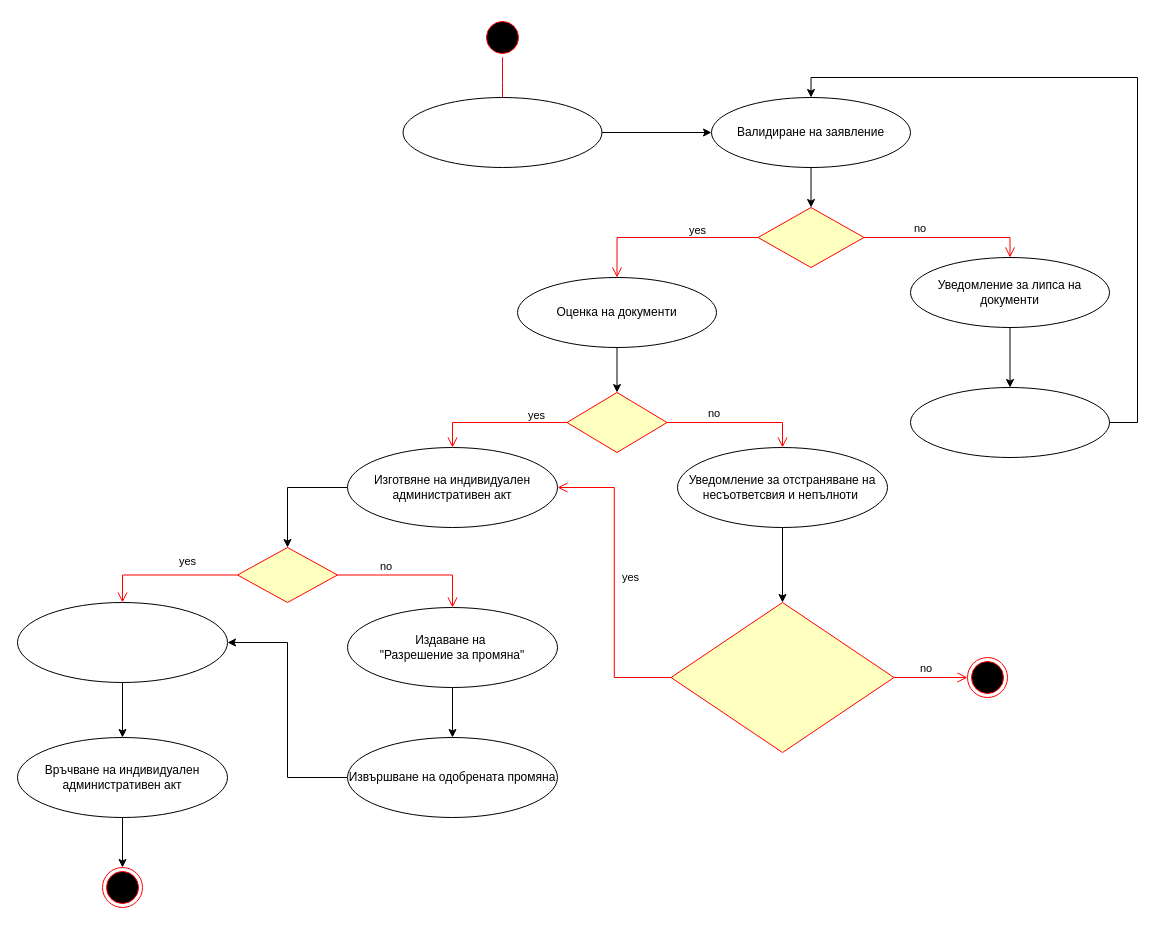
The diagram is 1163 pixels wide and 925 high, and some of its shapes have lost their labels. The shapes that lost their labels are listed below. From the top down, each one's centre as x and y in pixels, then its label:
(502,132): Подаване на заяление със съответните документи
(1010,422): Получаване на липсваща документация
(122,642): Подписване на разрешение от изпълнителния директор на ИАЛ
(782,677): Представена ли е допълнена документация в указания срок?
